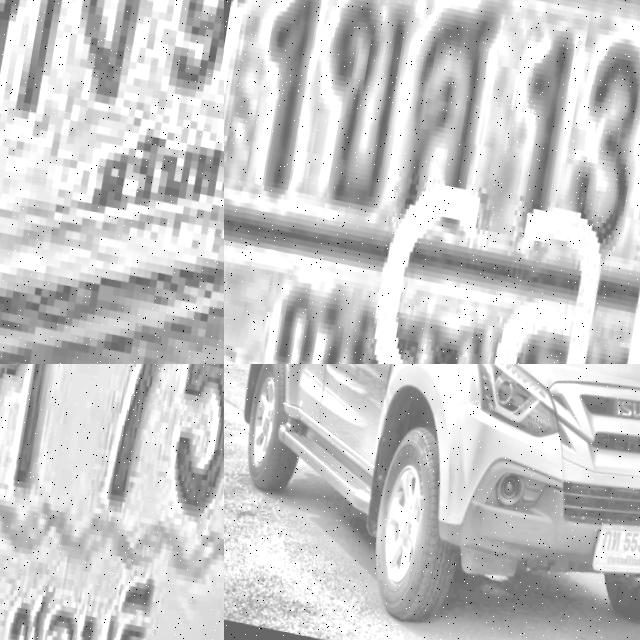license-plate: (224, 0, 640, 364), (0, 0, 224, 364), (0, 364, 224, 640), (590, 510, 640, 580)
